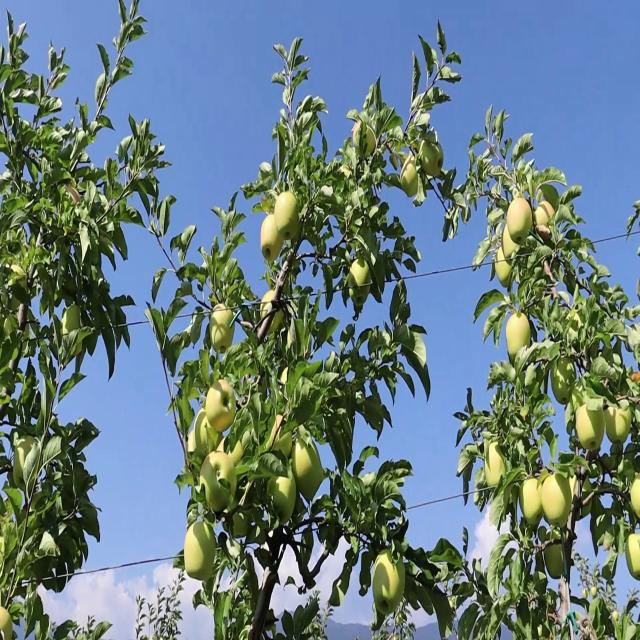apple: (369, 543, 405, 616), (198, 452, 236, 512), (184, 519, 216, 581), (292, 440, 324, 502), (542, 471, 573, 531), (264, 474, 298, 525), (206, 380, 237, 431), (12, 436, 40, 491), (574, 404, 605, 451), (506, 198, 534, 248), (604, 397, 632, 446), (504, 314, 533, 360), (519, 472, 543, 527), (209, 302, 235, 352), (550, 356, 576, 404), (61, 305, 84, 354), (542, 531, 564, 582), (275, 192, 299, 238), (484, 436, 506, 485), (260, 214, 282, 262), (348, 259, 371, 304), (420, 136, 445, 177), (194, 409, 216, 451), (260, 291, 284, 329), (494, 244, 514, 289), (622, 532, 640, 582), (534, 200, 556, 238), (402, 154, 417, 198), (502, 226, 516, 261), (630, 473, 640, 519), (0, 606, 13, 640)
